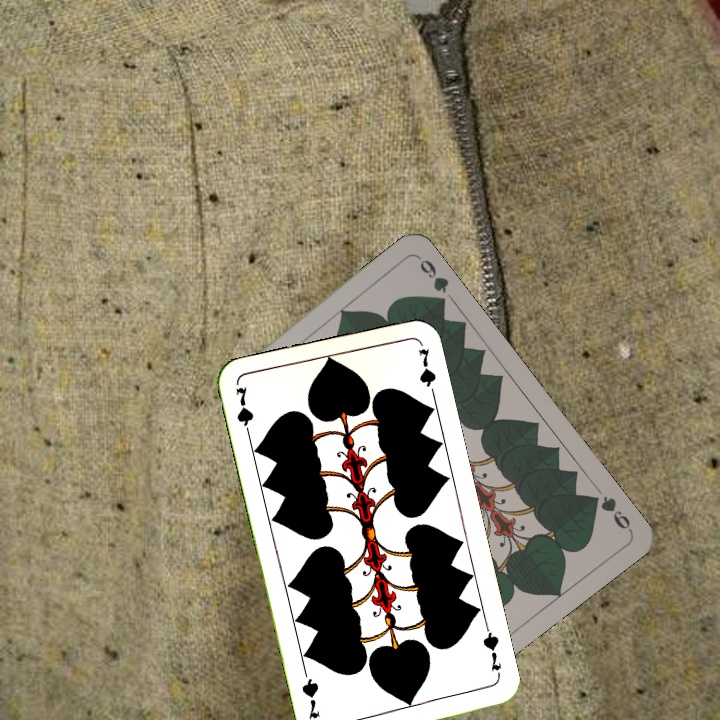G7: (478, 623, 504, 681), (231, 382, 256, 442)
G9: (584, 491, 634, 534)
